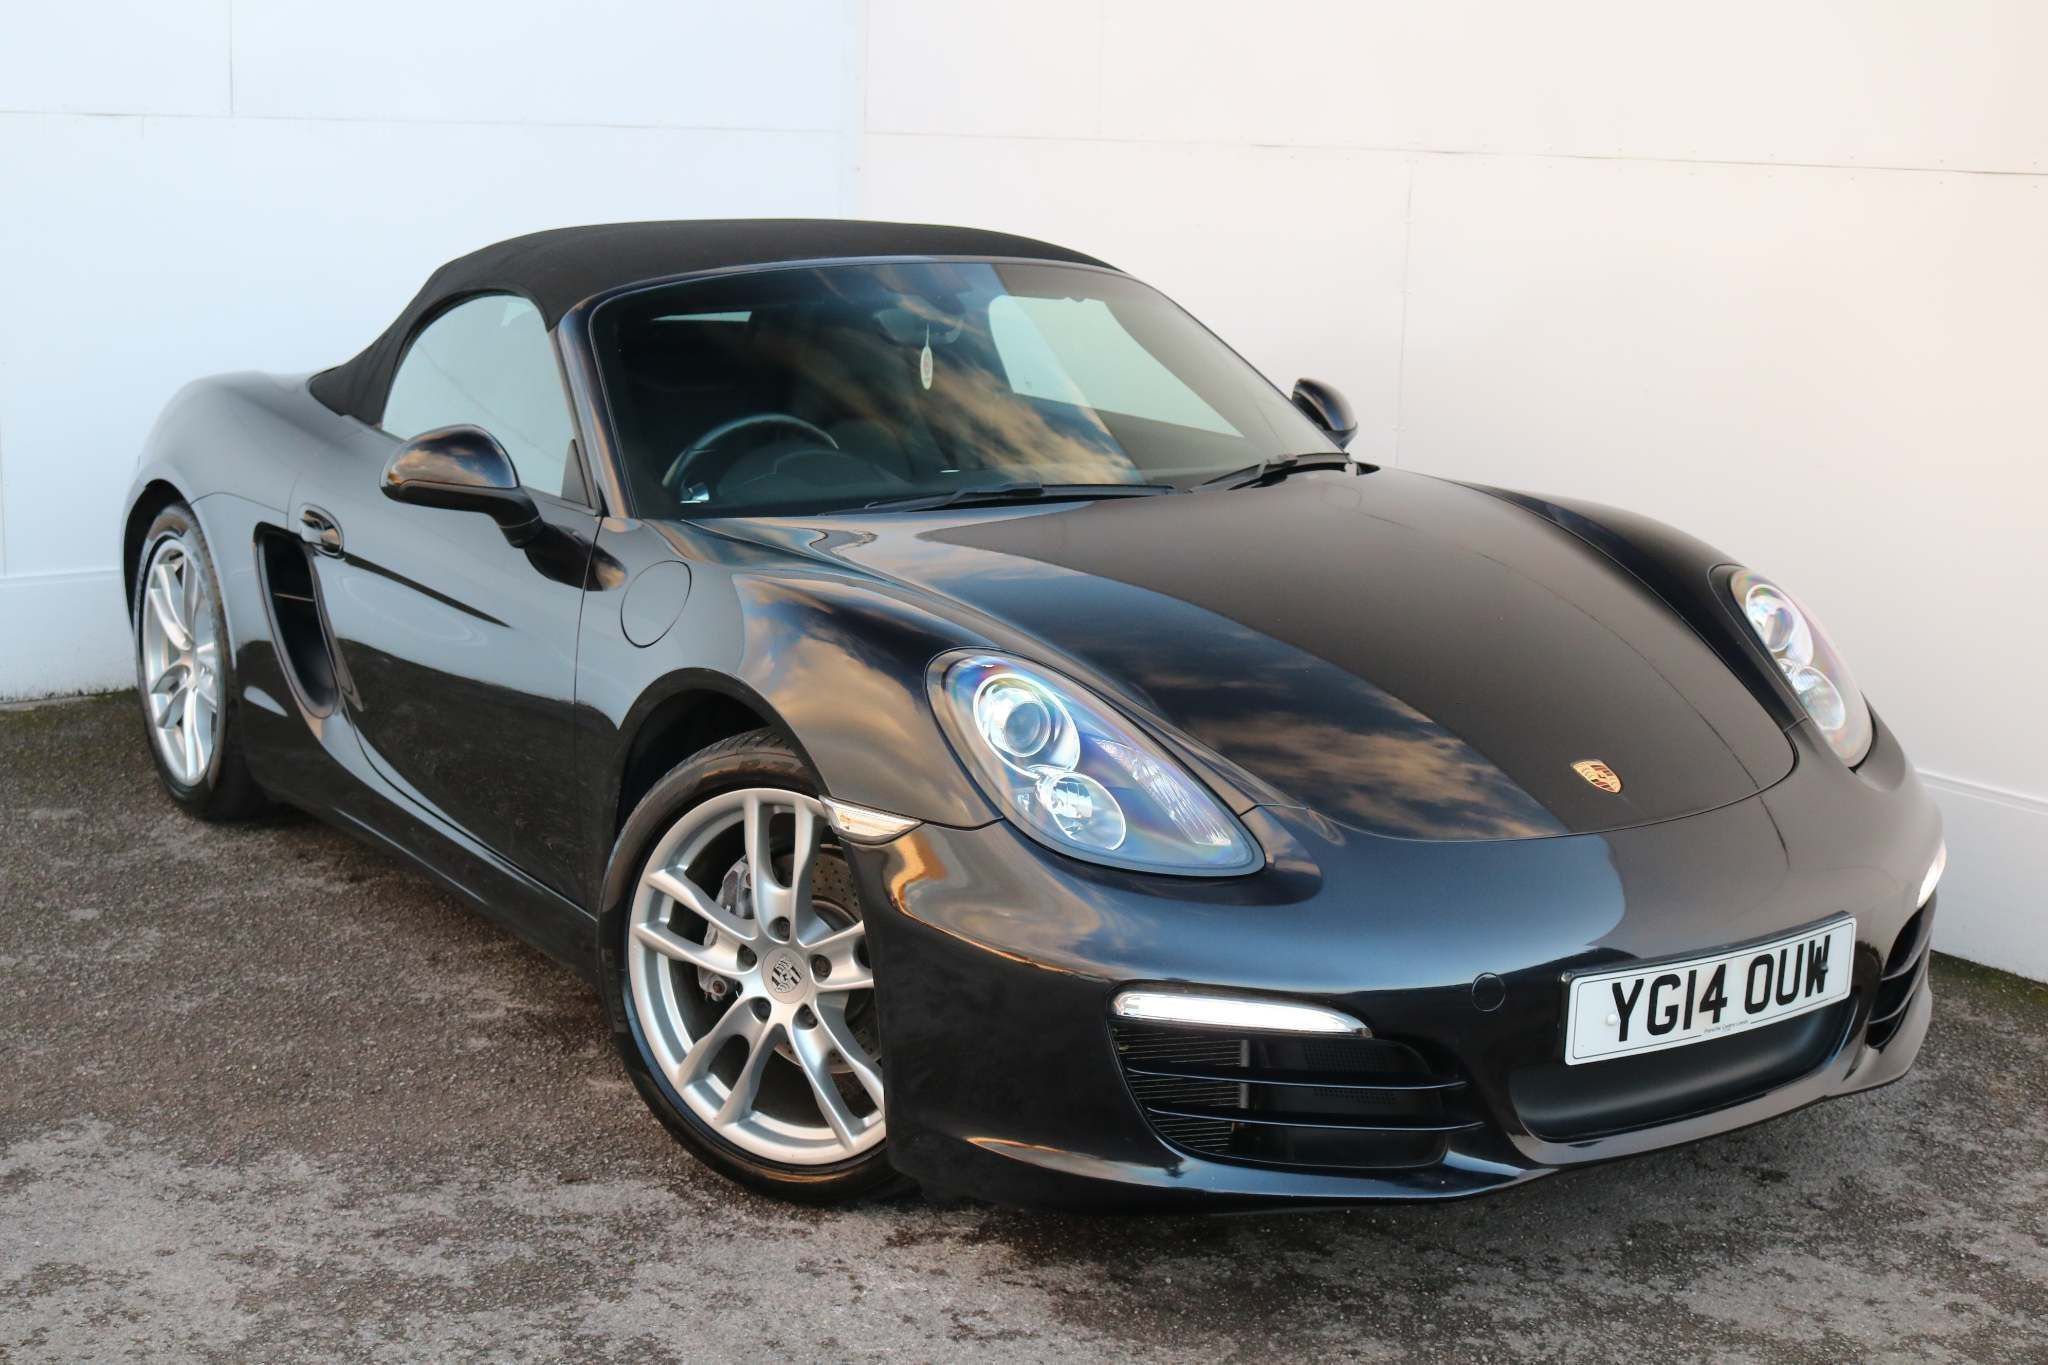car: (123, 178, 1948, 1239)
